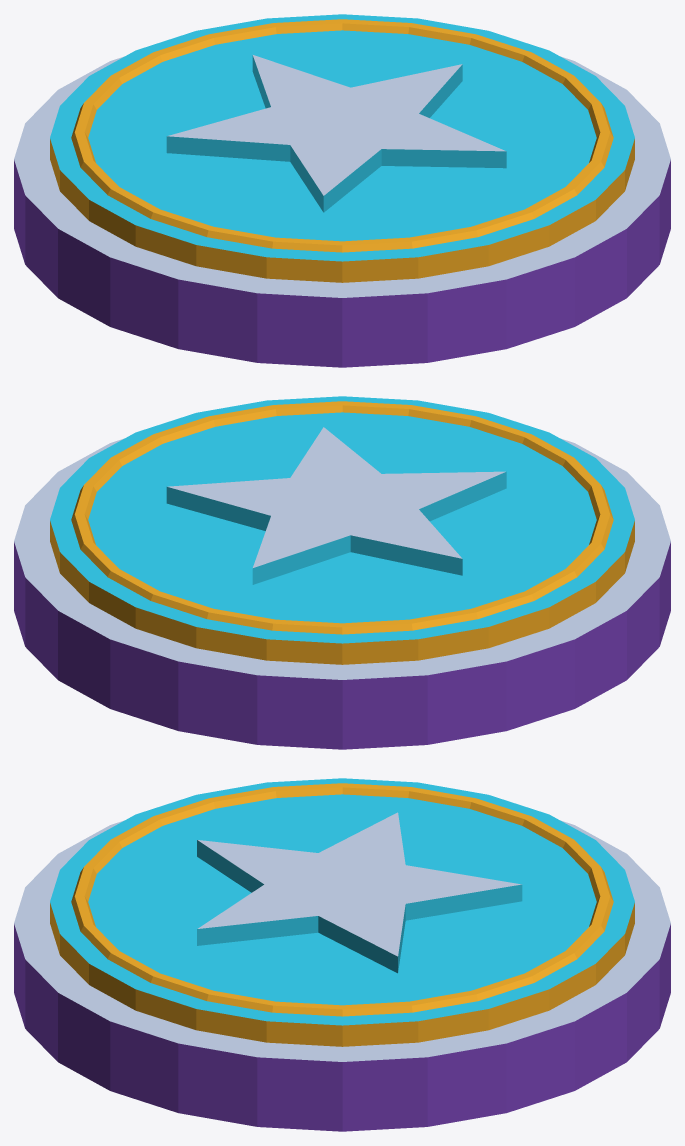
The model's file is galaxy_orbit_platform.obj.
3 renders of one model, top to bottom at view 1: azimuth 30°, elevation 25°; view 2: azimuth 150°, elevation 25°; view 3: azimuth 270°, elevation 25°, orthographic.
Visible parts, largest first — view 1: galaxy_orbit_platform; view 2: galaxy_orbit_platform; view 3: galaxy_orbit_platform.
Part boxes in pixels (<box>): galaxy_orbit_platform: <box>14,14,670,367</box>; galaxy_orbit_platform: <box>14,396,670,749</box>; galaxy_orbit_platform: <box>14,778,670,1131</box>.
Size of the model in its own units: 5.3 by 0.965 by 5.3.
